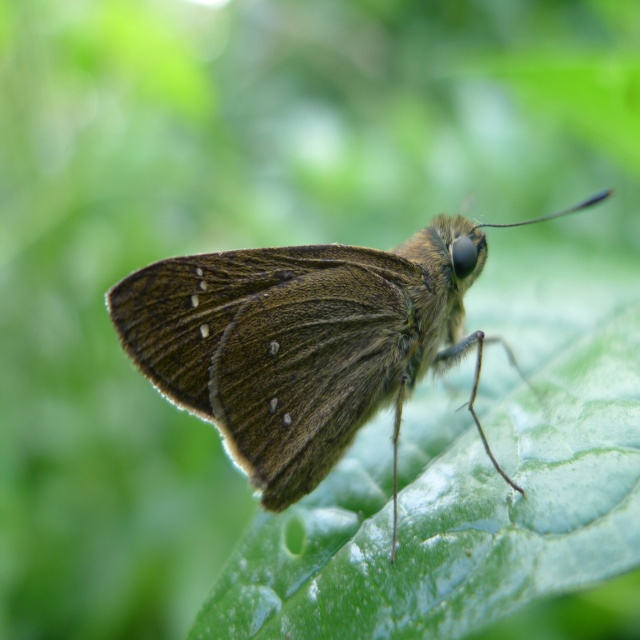Butterfly: (104, 172, 600, 512)
